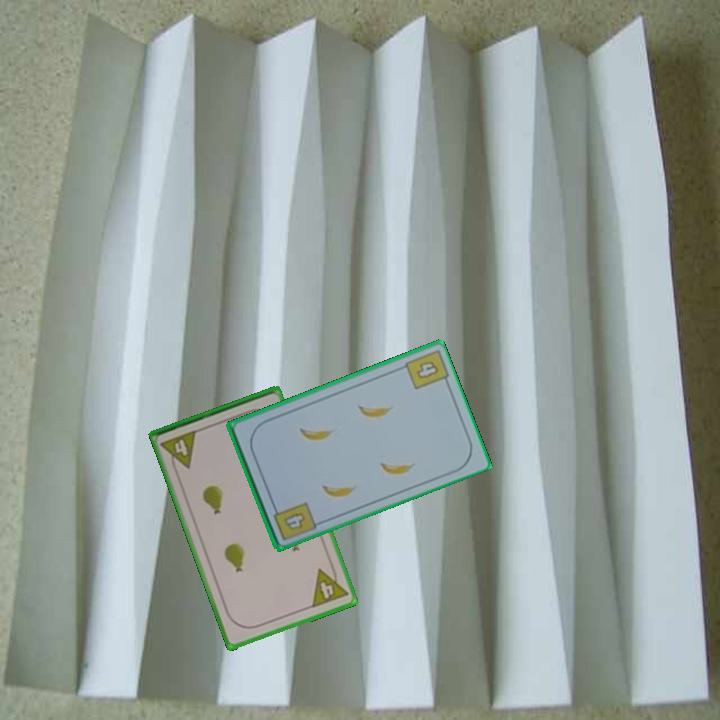4b: (269, 498, 318, 543), (413, 357, 442, 382)
4p: (308, 561, 351, 611), (157, 426, 200, 475)
